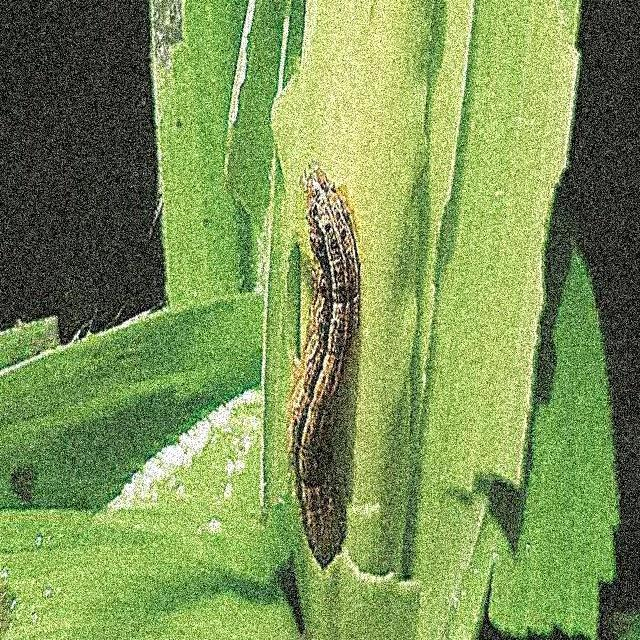worm: (285, 163, 363, 571)
